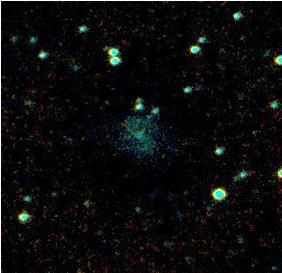star: (123, 104, 153, 134)
